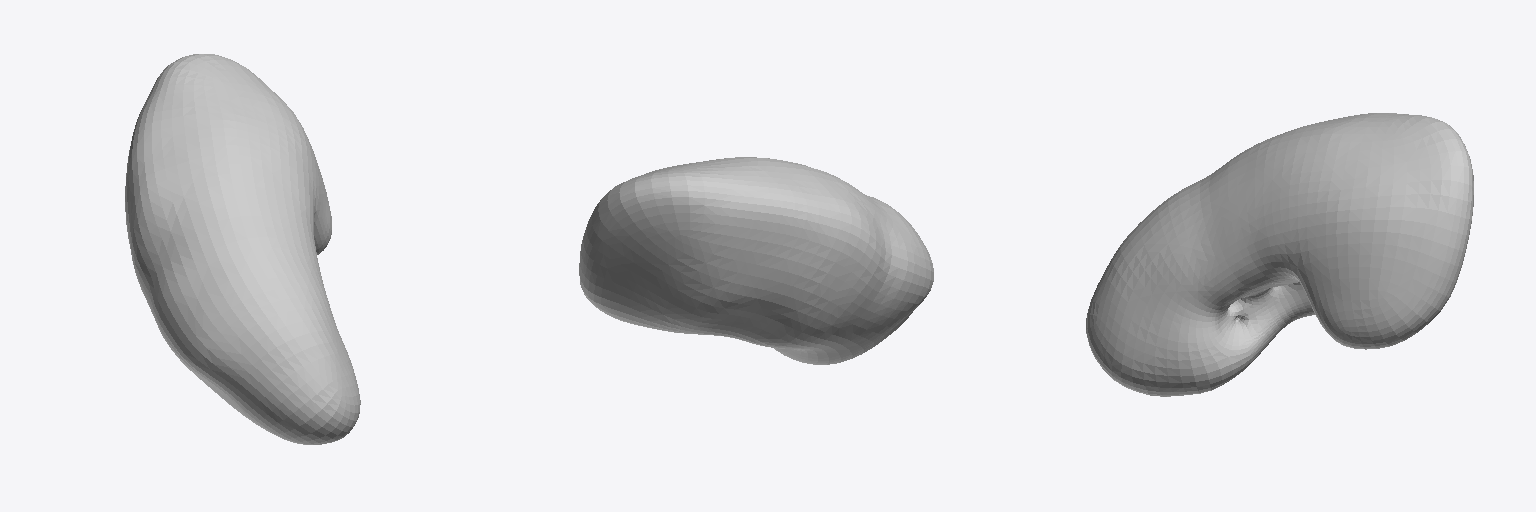
Rendered from 8K_Kidney_Left.OBJ.
3 views of the same model, side by side, from view 1: azimuth 30°, elevation 25°; view 2: azimuth 150°, elevation 25°; view 3: azimuth 270°, elevation 25° (orthographic).
Parts seen in each view (by area): view 1: ZBrushPolyMesh3D; view 2: ZBrushPolyMesh3D; view 3: ZBrushPolyMesh3D.
Boxes of the visible parts, x1,y1,x2,y2 form: ZBrushPolyMesh3D: [125, 54, 360, 444]; ZBrushPolyMesh3D: [579, 157, 933, 364]; ZBrushPolyMesh3D: [1086, 113, 1473, 396].
Size of the model in its own units: 9.31 by 10.15 by 13.1.